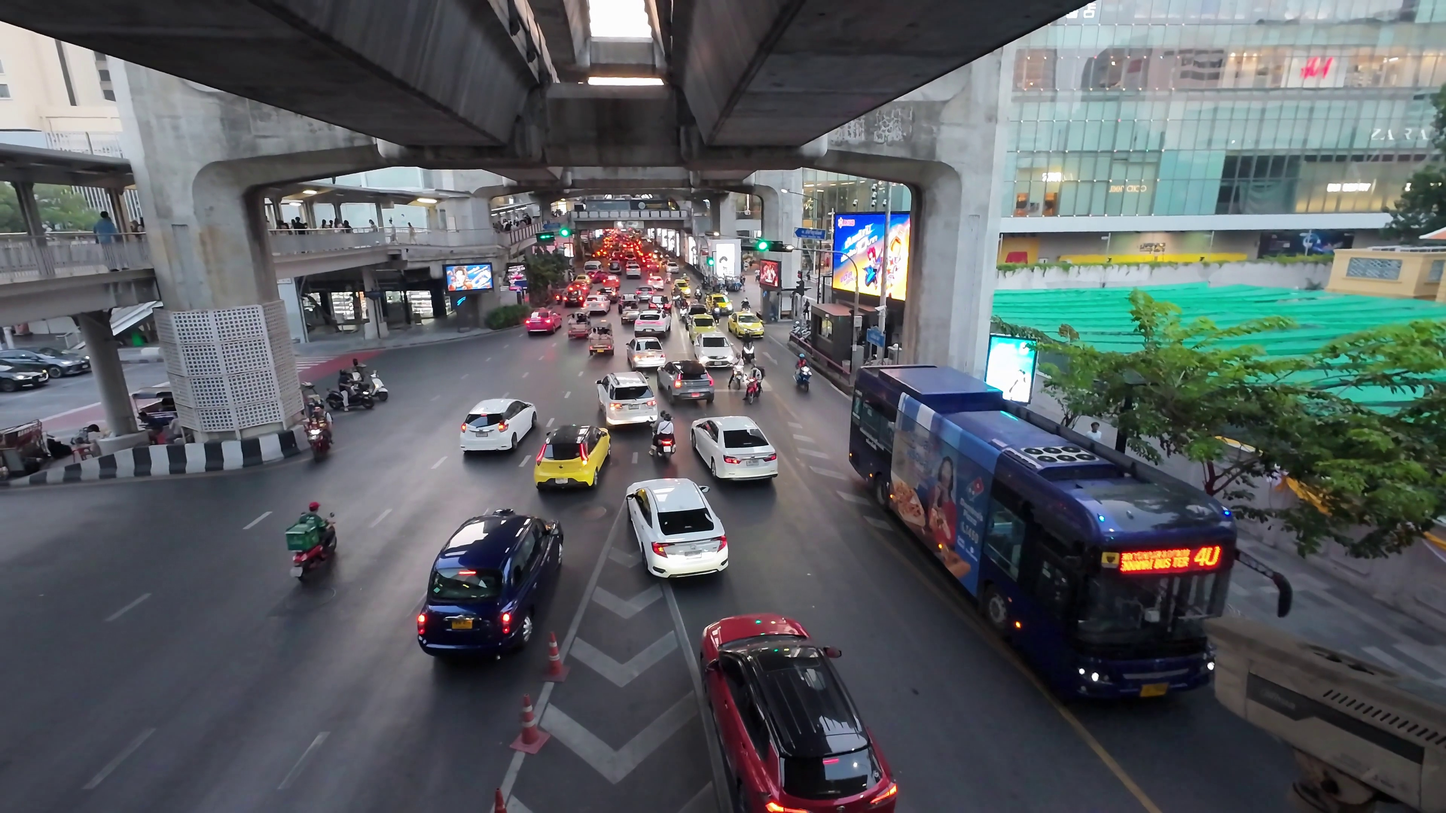license_plate: (946, 566, 1140, 674), (750, 738, 850, 796), (452, 598, 528, 647), (651, 541, 704, 574), (733, 646, 801, 665), (711, 456, 755, 478), (552, 463, 593, 485), (322, 391, 368, 409), (479, 434, 517, 454), (613, 409, 646, 429), (676, 397, 702, 408), (531, 325, 552, 334)
no_seatbelt: (906, 414, 1179, 583), (731, 655, 869, 747), (437, 530, 543, 606), (640, 494, 715, 547), (720, 620, 815, 649), (702, 425, 764, 460), (545, 432, 601, 466), (313, 365, 377, 394), (471, 406, 525, 437), (607, 382, 652, 412), (671, 382, 707, 399), (527, 312, 556, 326)
